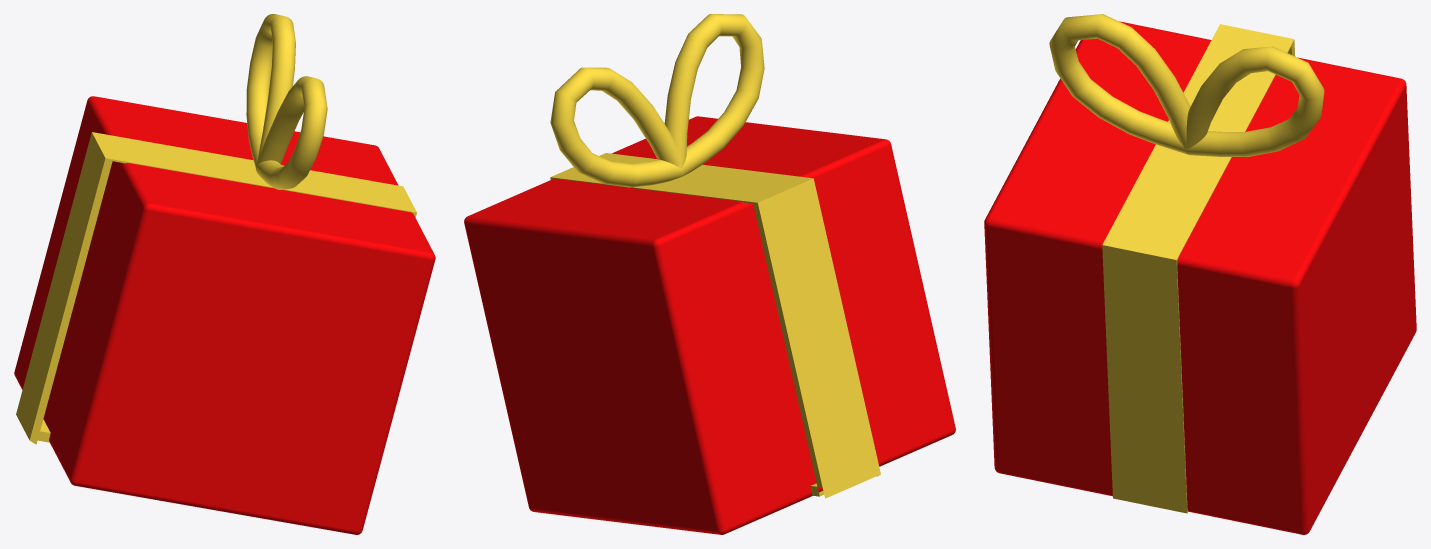
The picture shows the model from 3 angles, left to right: view 1: azimuth 30°, elevation 25°; view 2: azimuth 150°, elevation 25°; view 3: azimuth 270°, elevation 25°; orthographic projection. The views are drawn at different scales.
Visible parts, largest first — view 1: Cube.041, Plane.029, Vert.007, Vert.008; view 2: Cube.041, Plane.029, Vert.007, Vert.008; view 3: Cube.041, Plane.029, Vert.007, Vert.008.
Part boxes in pixels (left/top/right/bottom): Cube.041: left=14, top=96, right=435, bottom=534; Plane.029: left=16, top=132, right=416, bottom=444; Vert.007: left=256, top=76, right=327, bottom=189; Vert.008: left=246, top=14, right=295, bottom=168; Cube.041: left=464, top=116, right=955, bottom=534; Plane.029: left=550, top=153, right=880, bottom=498; Vert.007: left=664, top=14, right=764, bottom=176; Vert.008: left=550, top=67, right=681, bottom=187; Cube.041: left=984, top=21, right=1416, bottom=534; Plane.029: left=1102, top=24, right=1295, bottom=513; Vert.007: left=1049, top=14, right=1190, bottom=154; Vert.008: left=1183, top=46, right=1324, bottom=156.
Bounding box in the file's own units: 6.33 × 6.72 × 5.53.
